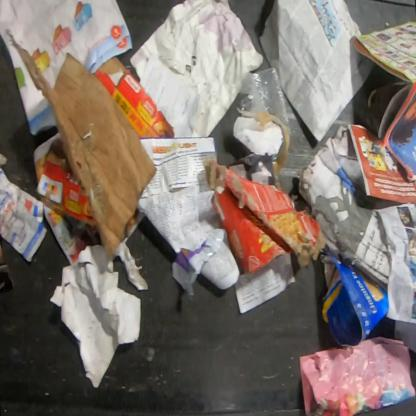cardboard: (8, 34, 175, 259), (203, 158, 329, 276), (320, 252, 391, 347)
soft_plastic: (234, 65, 292, 177), (171, 227, 230, 296)
